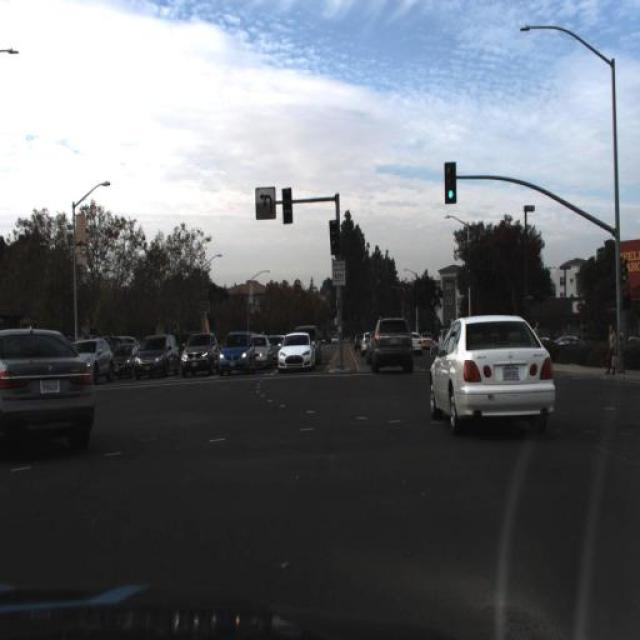car: (428, 314, 558, 450), (1, 312, 93, 450), (64, 332, 116, 383), (372, 314, 413, 370), (32, 328, 86, 370), (132, 334, 178, 380), (216, 328, 255, 378), (180, 325, 214, 380), (180, 330, 219, 376), (276, 329, 316, 368), (112, 341, 136, 381), (299, 322, 323, 362), (420, 315, 444, 355), (252, 332, 272, 373), (411, 317, 428, 363), (398, 314, 411, 354), (361, 326, 372, 362), (354, 323, 366, 355)
trafficLight-GreenLeft: (440, 150, 460, 212), (328, 219, 338, 260), (618, 256, 630, 286)
trafficLight-Red: (326, 211, 343, 261), (281, 184, 297, 227)
